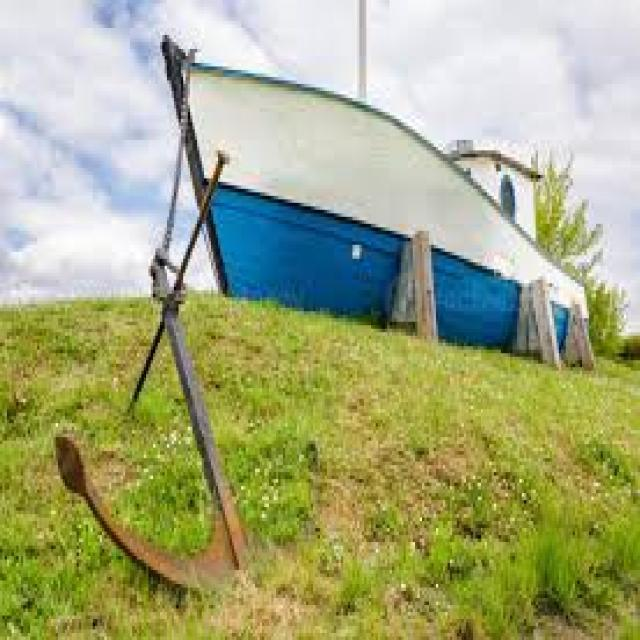ship2: (168, 0, 599, 374)
